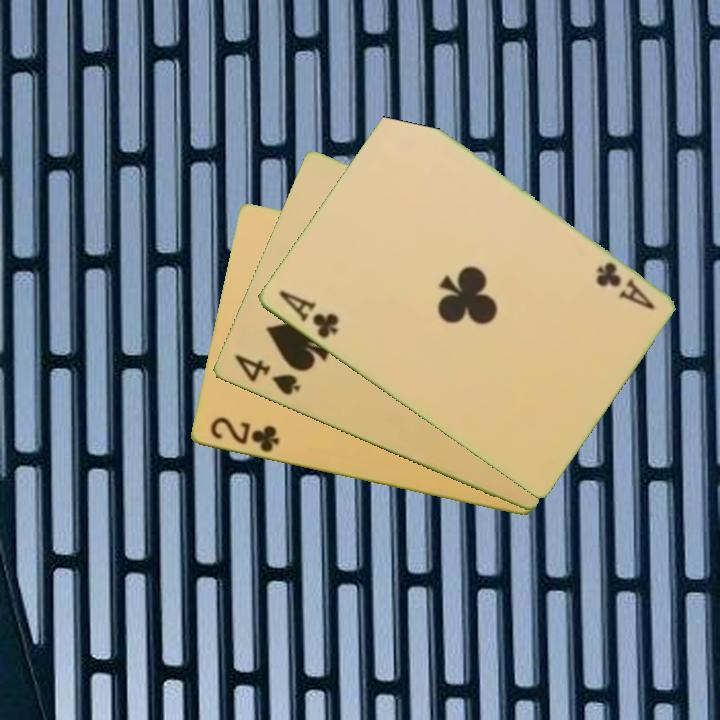2c: (206, 413, 282, 456)
4s: (230, 350, 303, 399)
Ac: (274, 286, 342, 342), (592, 258, 658, 314)
